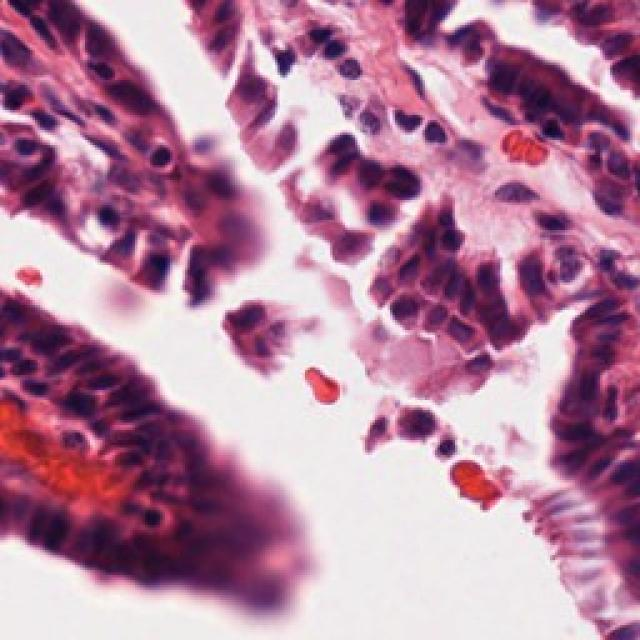abnormal: (538, 237, 605, 300), (370, 145, 427, 210), (343, 134, 390, 194), (380, 280, 430, 335), (0, 10, 35, 88), (442, 297, 482, 355), (417, 295, 453, 347)
